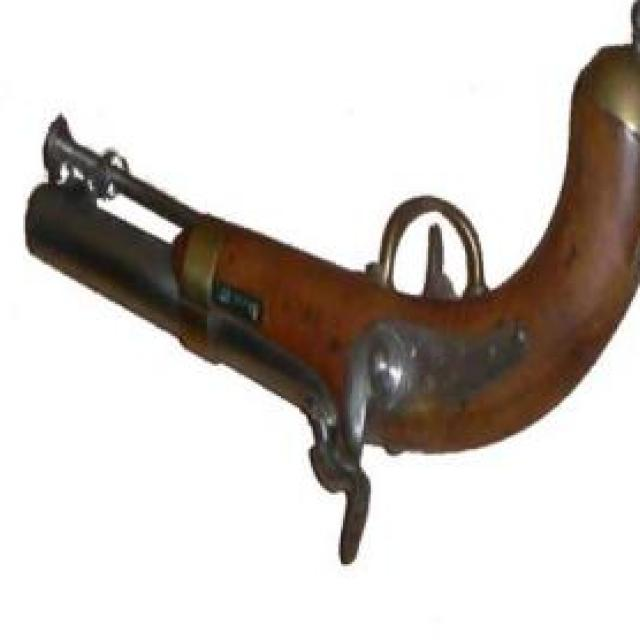pistol: (23, 25, 640, 622)
